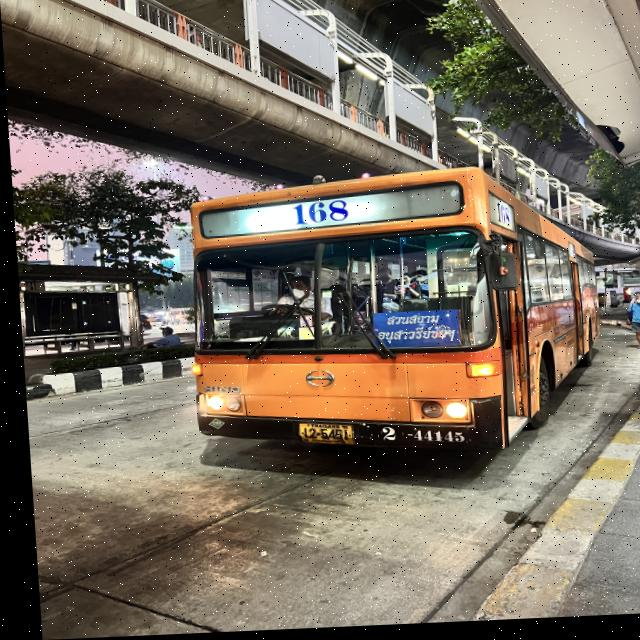BMTA-bus: (185, 173, 626, 457)
Bus Line Number: (282, 198, 352, 232)
Bus Side Number: (370, 424, 462, 453)
Destination Sign: (367, 312, 459, 355)
